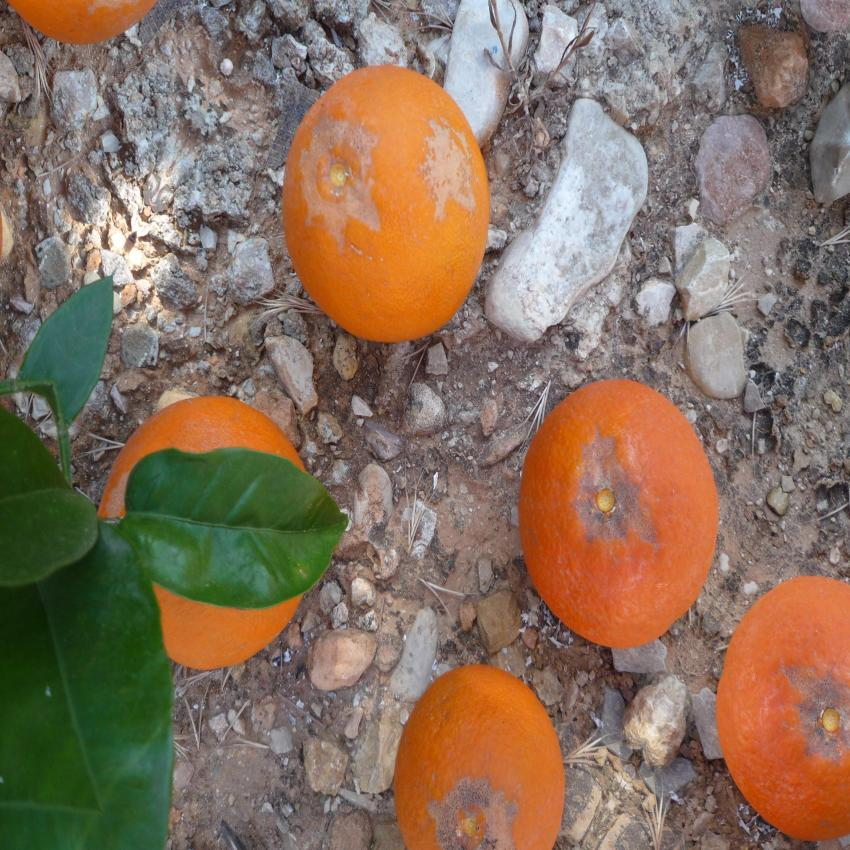Mal estado: (96, 383, 369, 676), (267, 64, 502, 360), (507, 365, 723, 675), (713, 552, 850, 834), (376, 666, 574, 843), (11, 0, 184, 68)
